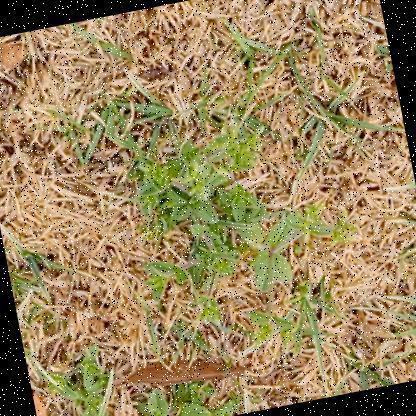Weeds: (116, 85, 377, 377), (40, 320, 250, 415)
